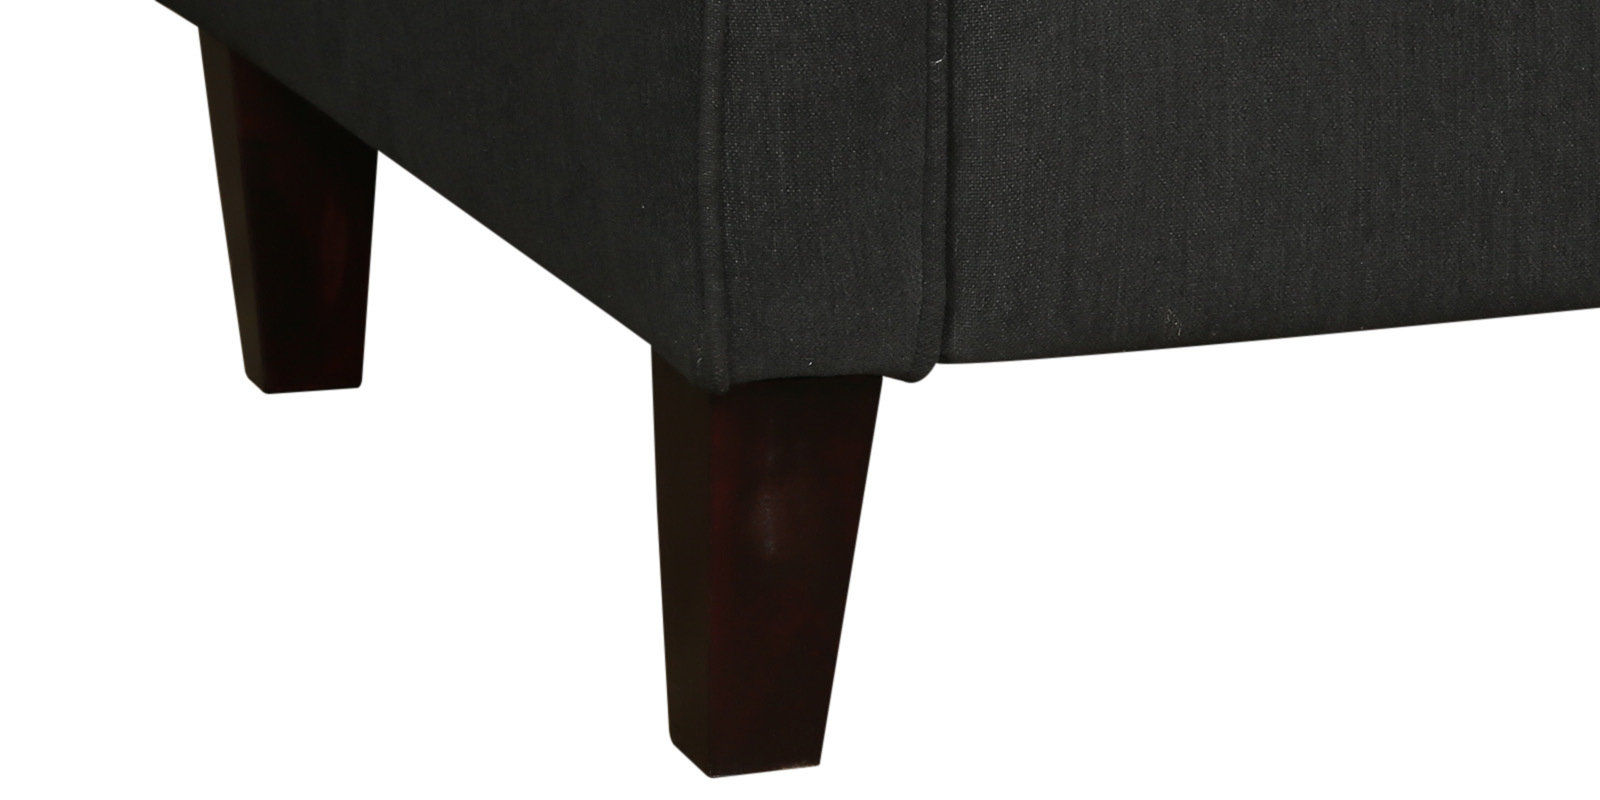Oscar Three Seater Sofa in Charcoal Grey Colour by CasaCraft: (149, 1, 1598, 780)
